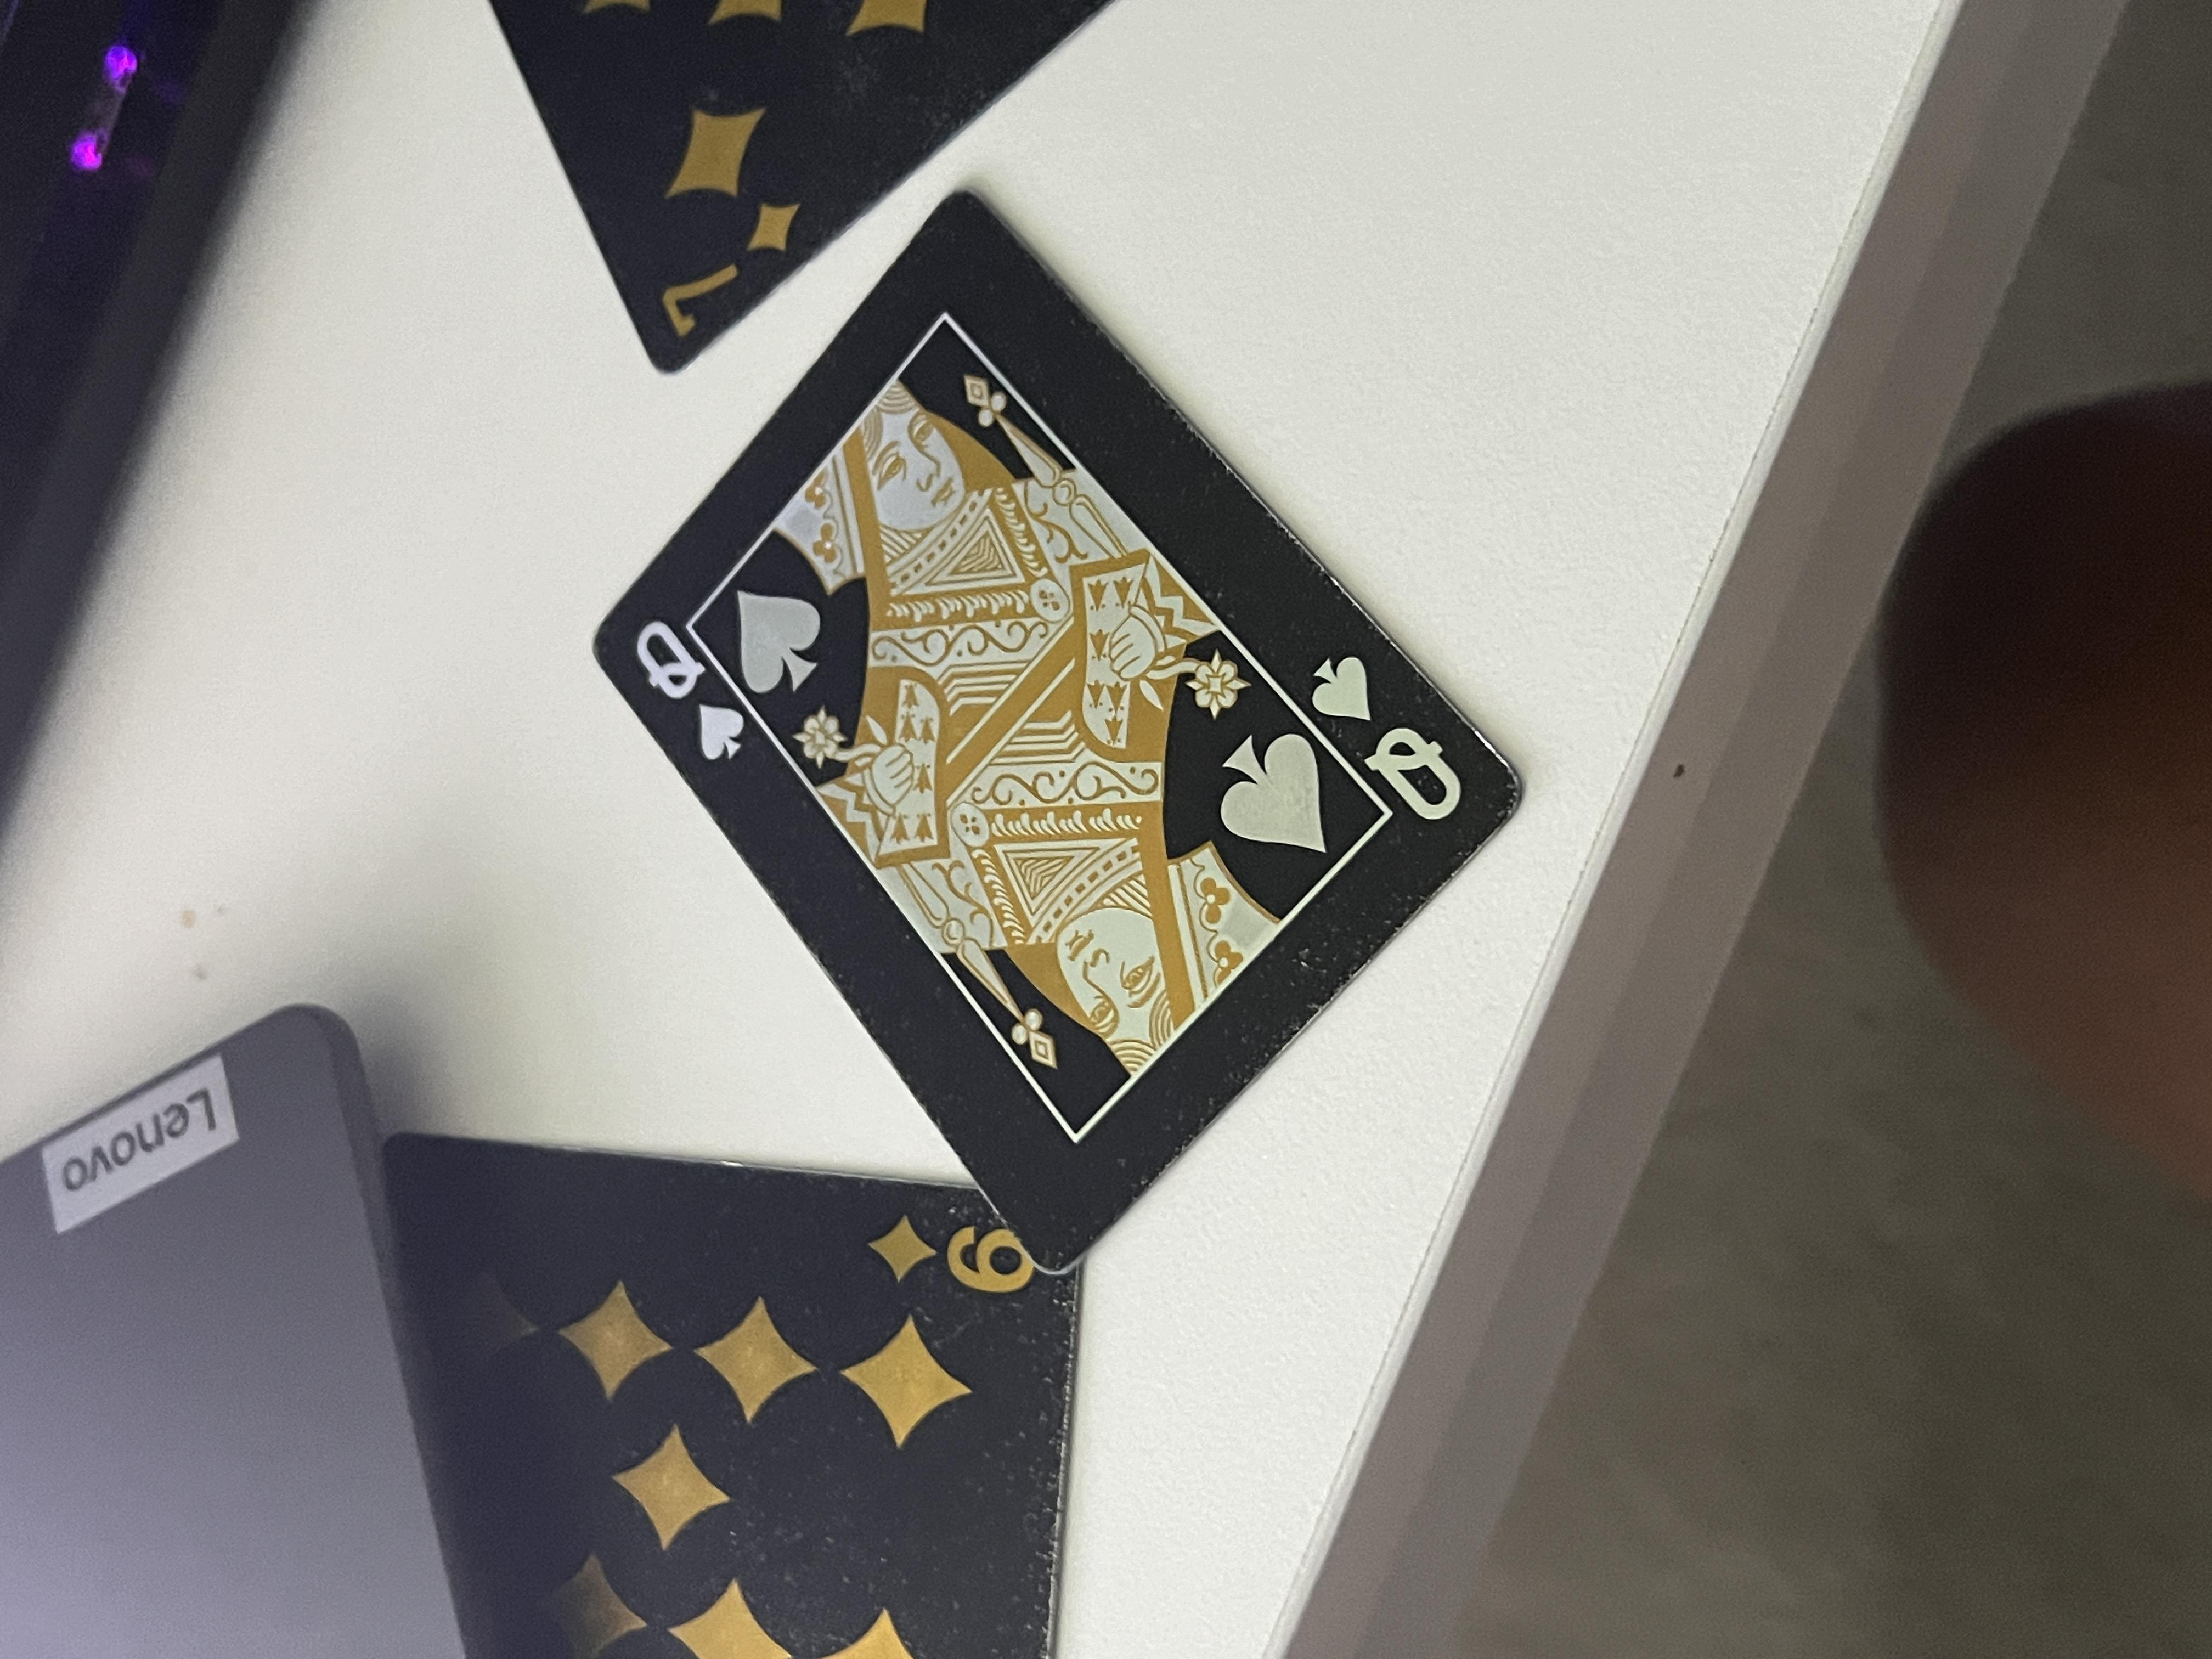7D: (1742, 493, 1972, 613)
9D: (482, 626, 611, 796)
QS: (1071, 976, 1357, 1127), (1177, 469, 1397, 568)
